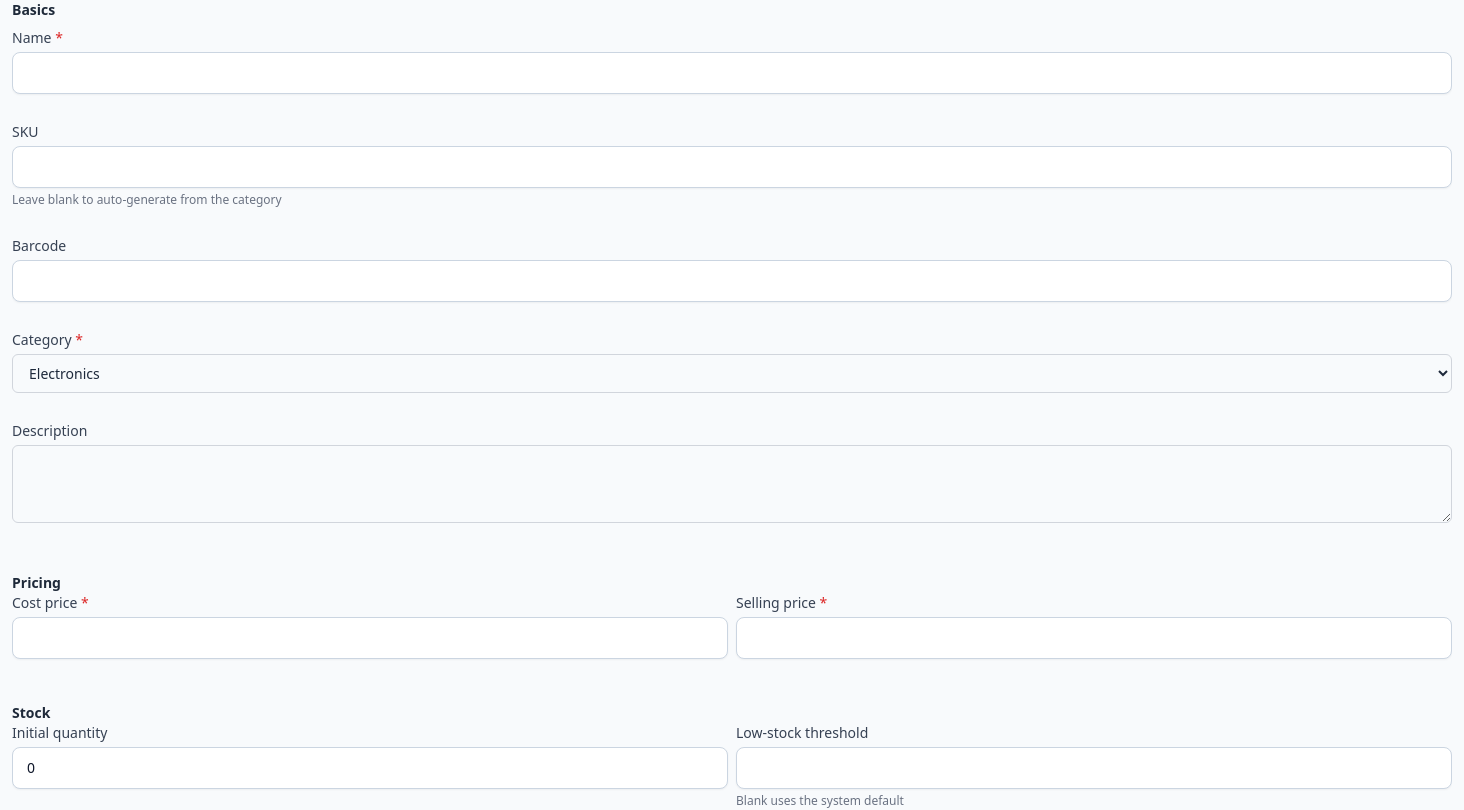
Test: ProductForm (create) › maps DUPLICATE_SKU to an inline SKU error
The image size is (1464, 810).
In the field labelled "Name *": (732,73) [12, 52, 1452, 94], type "Widget"
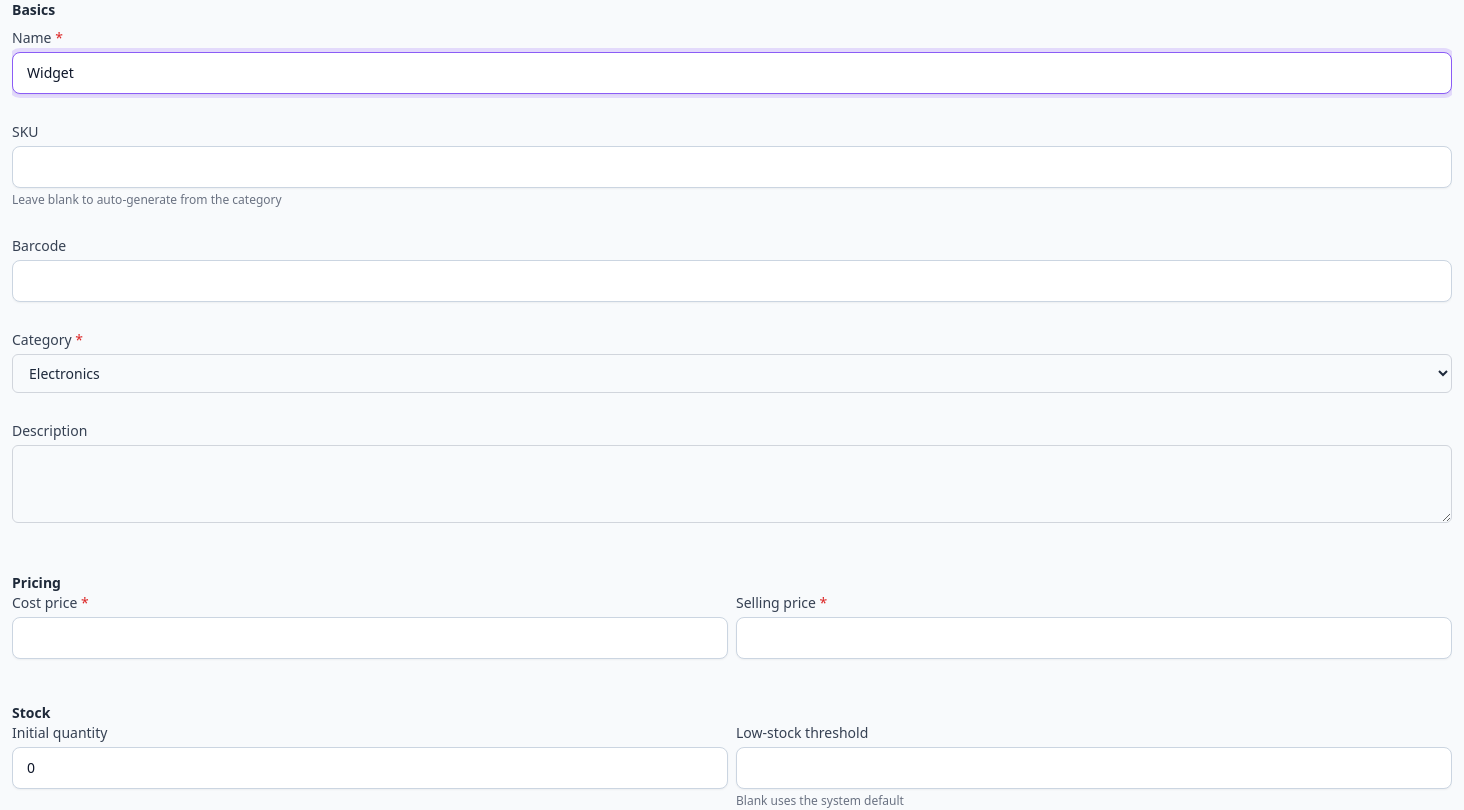
In the field labelled "SKU": (732,167) [12, 146, 1452, 188], type "ELEC-00001"
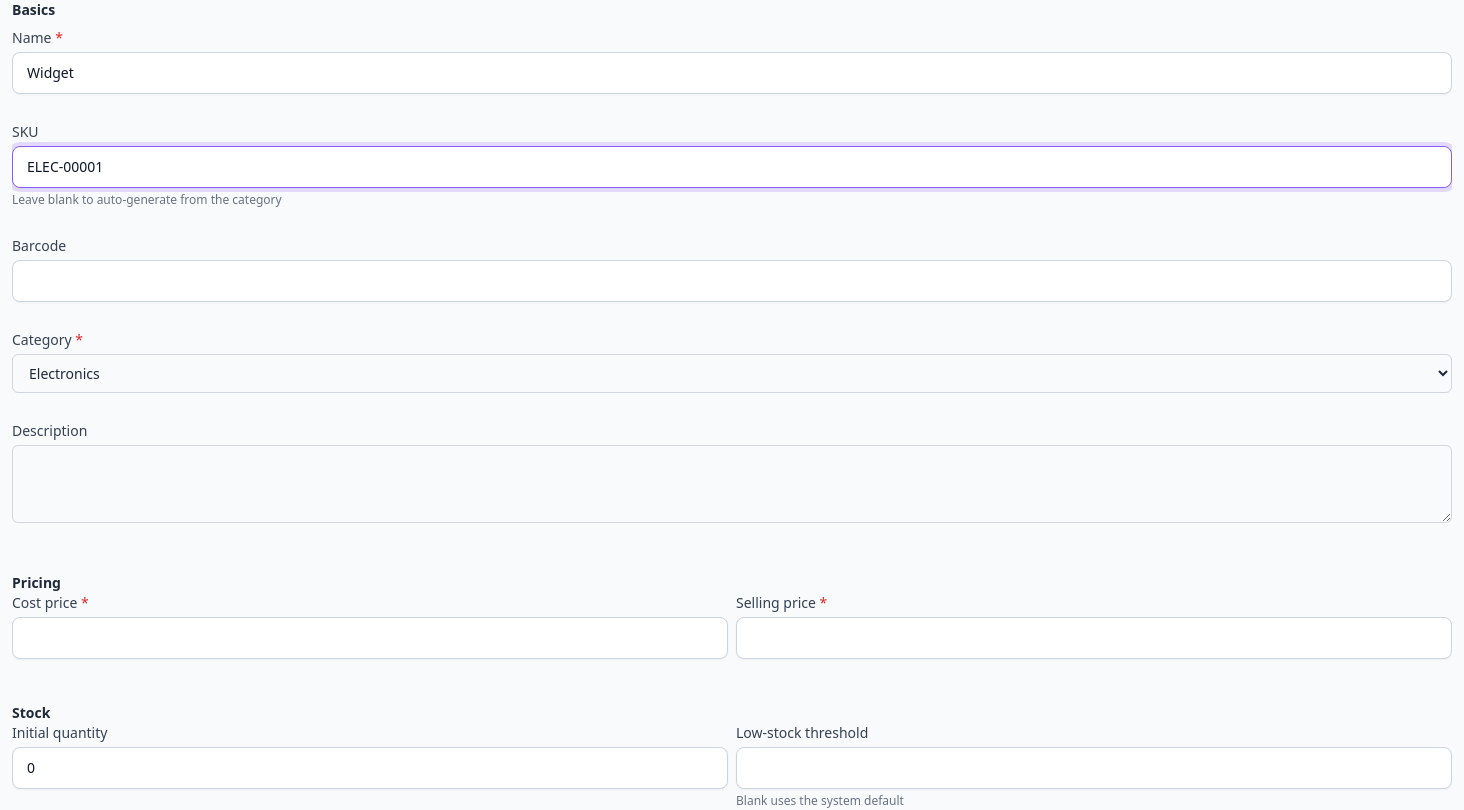
In the field labelled "Cost price *": (370,638) [12, 617, 728, 659], type "10.00"
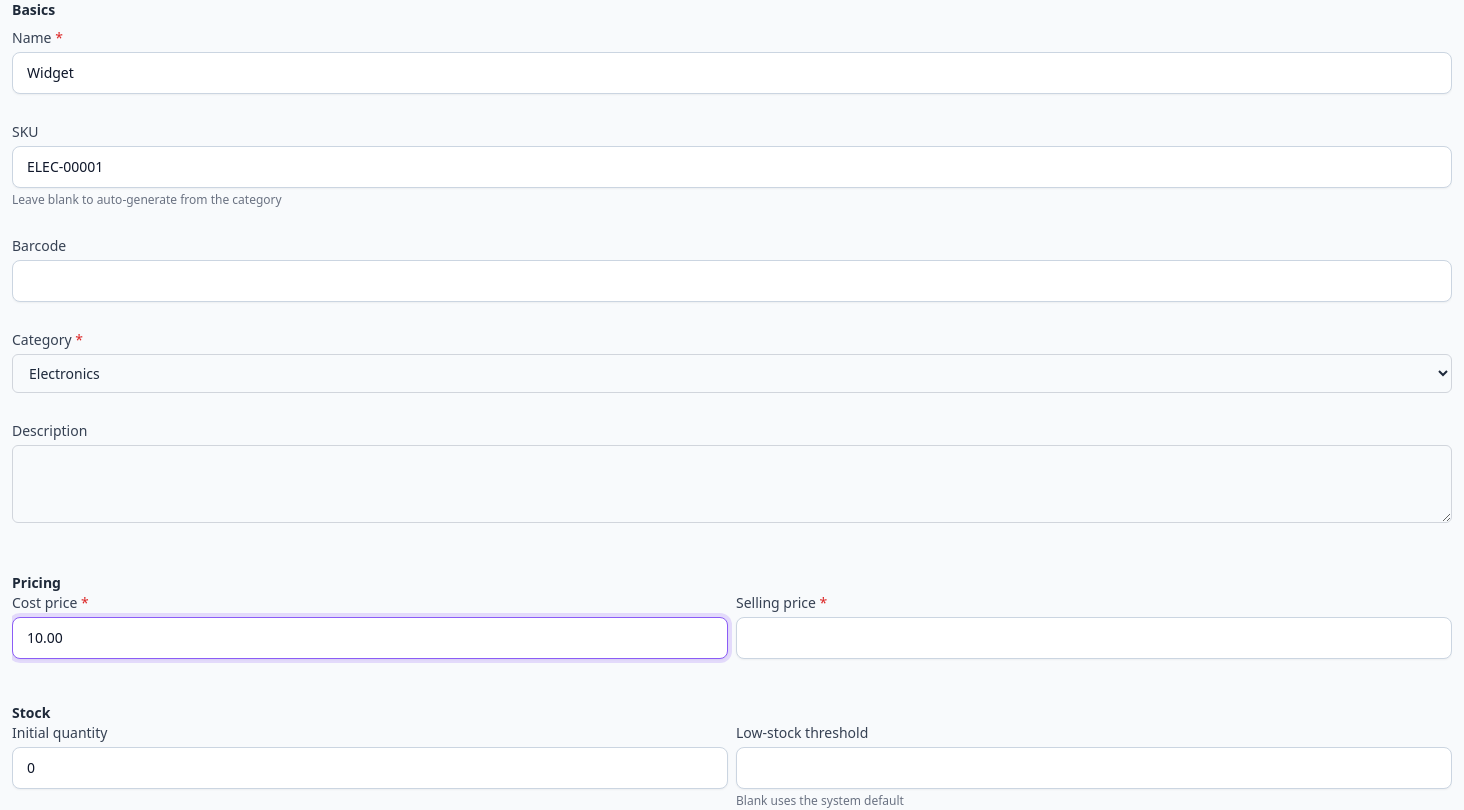
In the field labelled "Selling price *": (1094,638) [736, 617, 1452, 659], type "15.00"
(page scrolled)
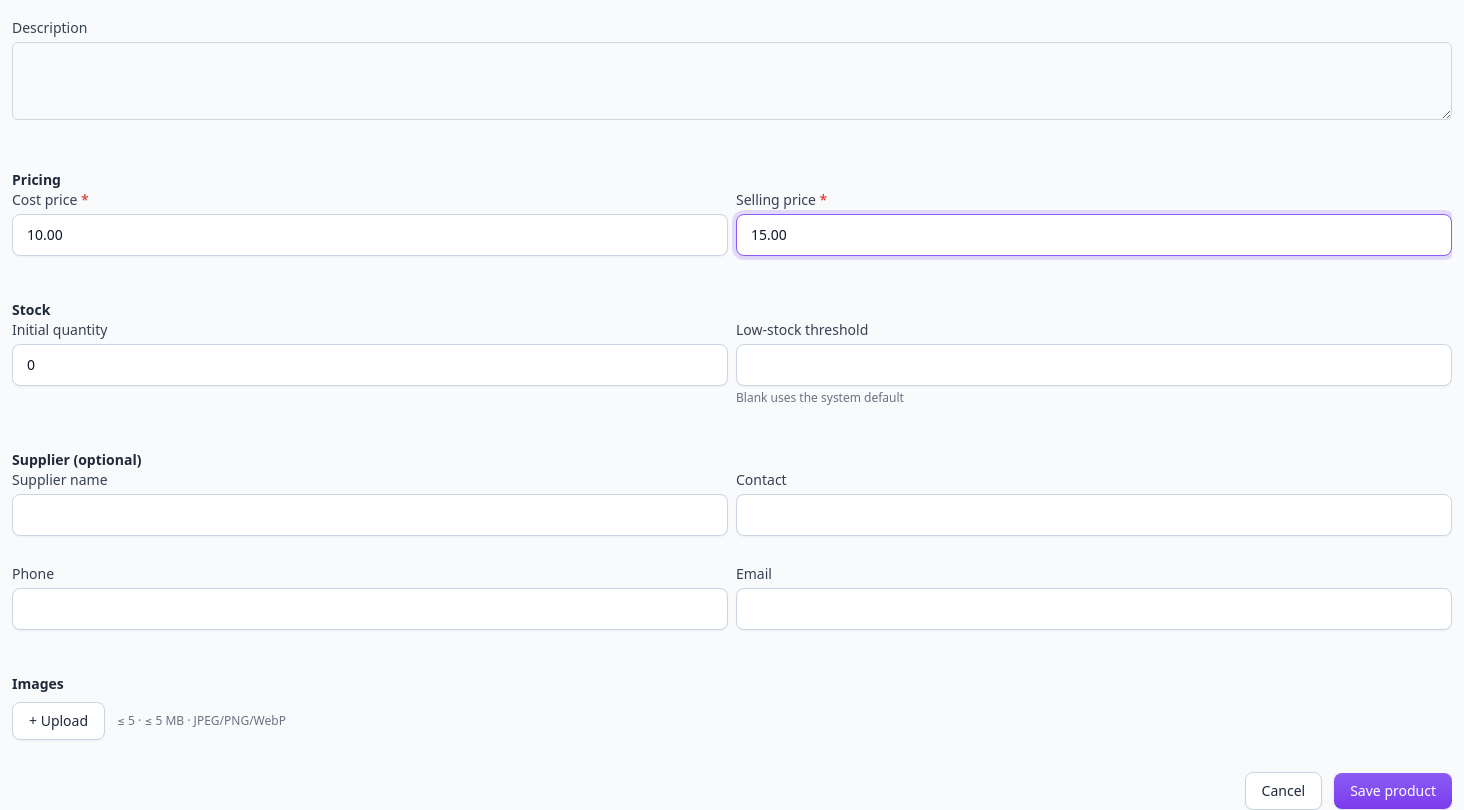
Click the button "Save product": (1393,791) [1334, 773, 1452, 809]
(page scrolled)
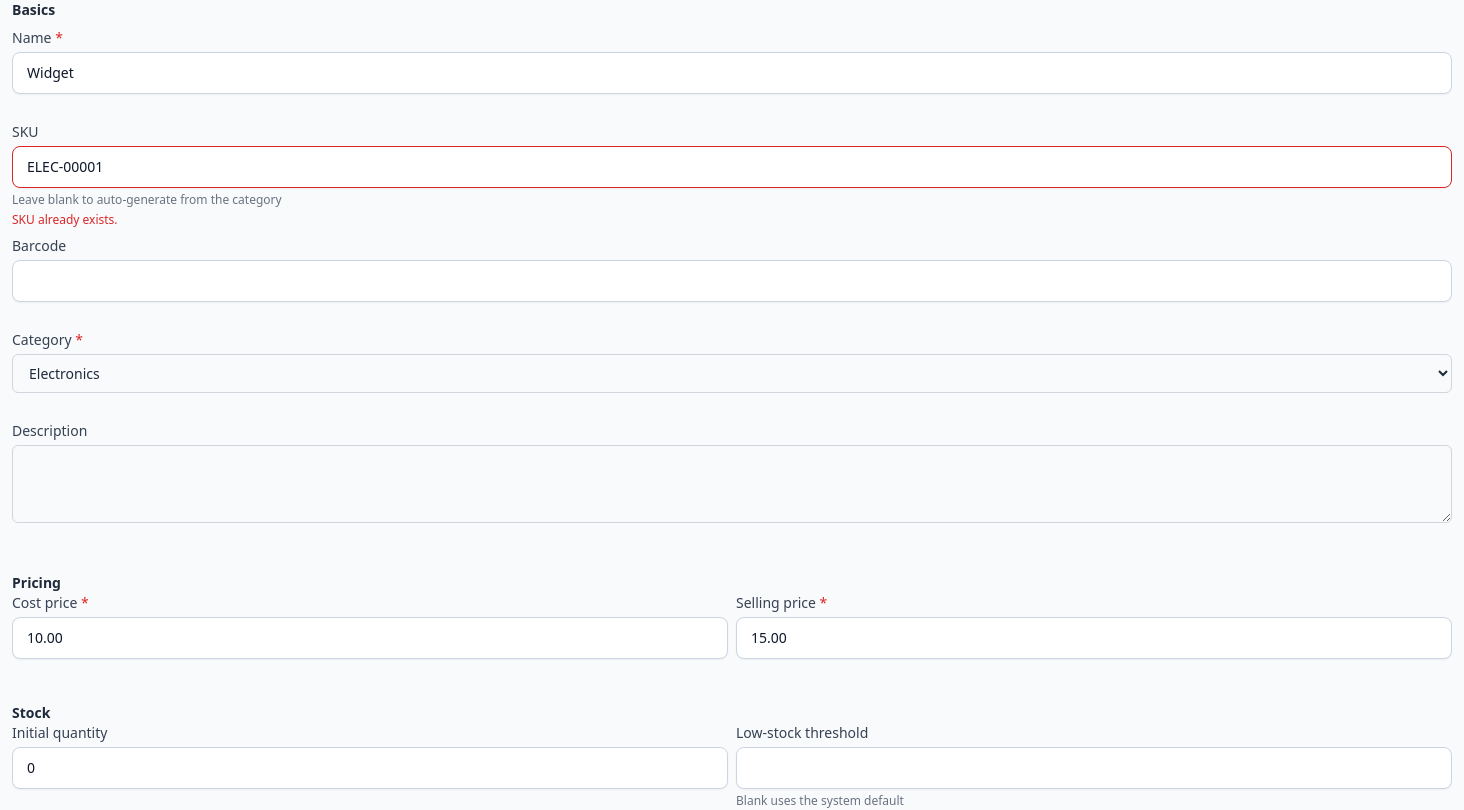
Result: the text "SKU already exists." is shown at [12, 211, 118, 228]
